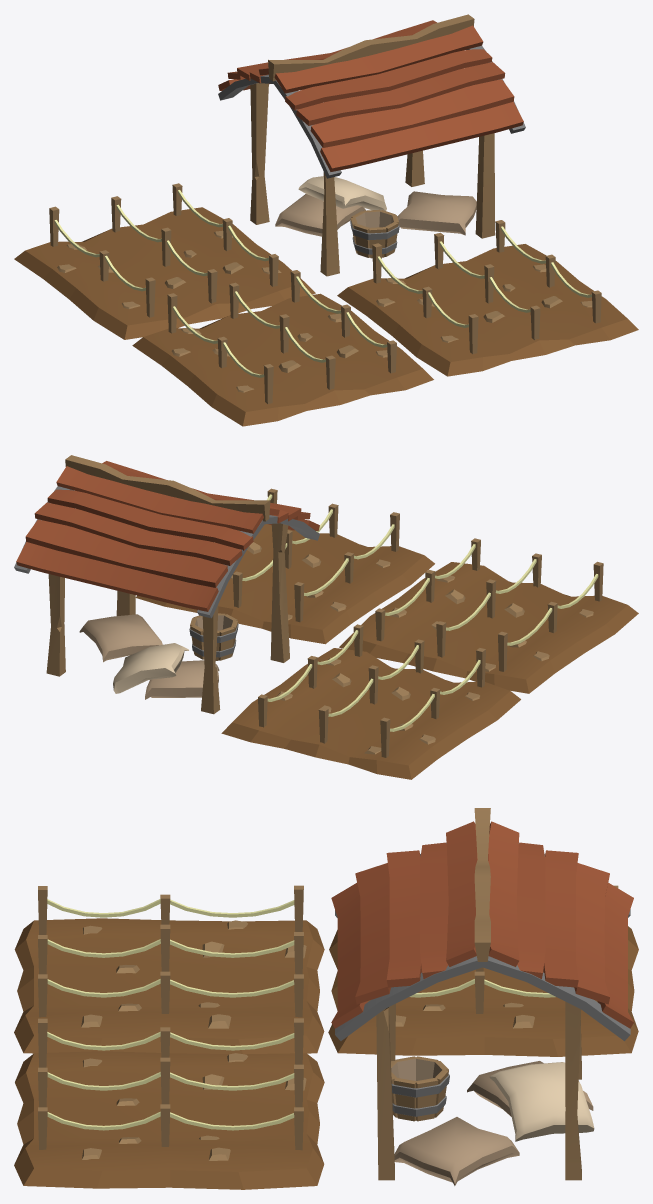
Rendered from Farm.fbx.
3 renders of one model, top to bottom at view 1: azimuth 30°, elevation 25°; view 2: azimuth 150°, elevation 25°; view 3: azimuth 270°, elevation 25°, orthographic. The views are drawn at different scales.
Visible parts, largest first — view 1: farm; view 2: farm; view 3: farm.
Part boxes in pixels (x1,y1,x2,y2): farm: [14, 14, 638, 426]; farm: [14, 455, 638, 779]; farm: [14, 808, 638, 1189].
Size of the model in its own units: 3.26 by 1.46 by 3.27.
